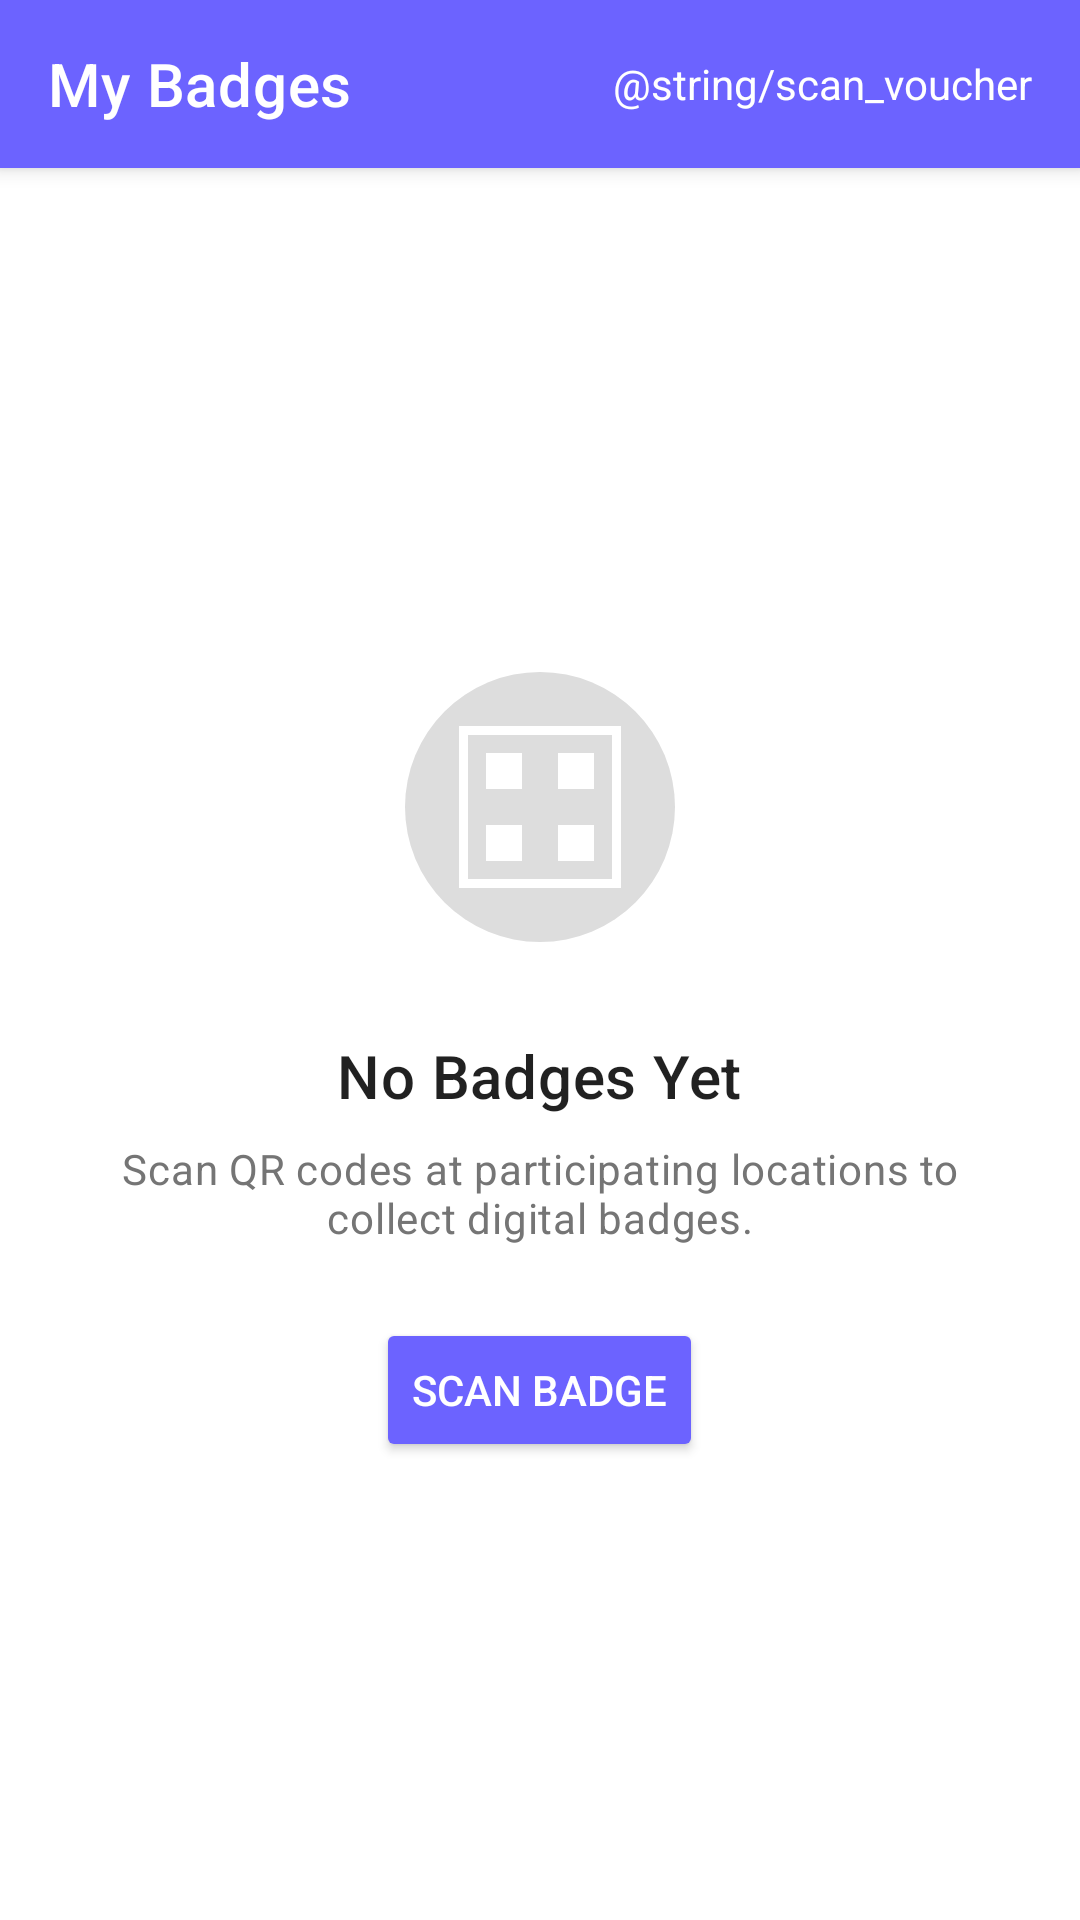

Icon click points for this 1080px×1920px phone screenshot, format (x=x, y=y):
Empty badges icon: (x=540, y=807)
